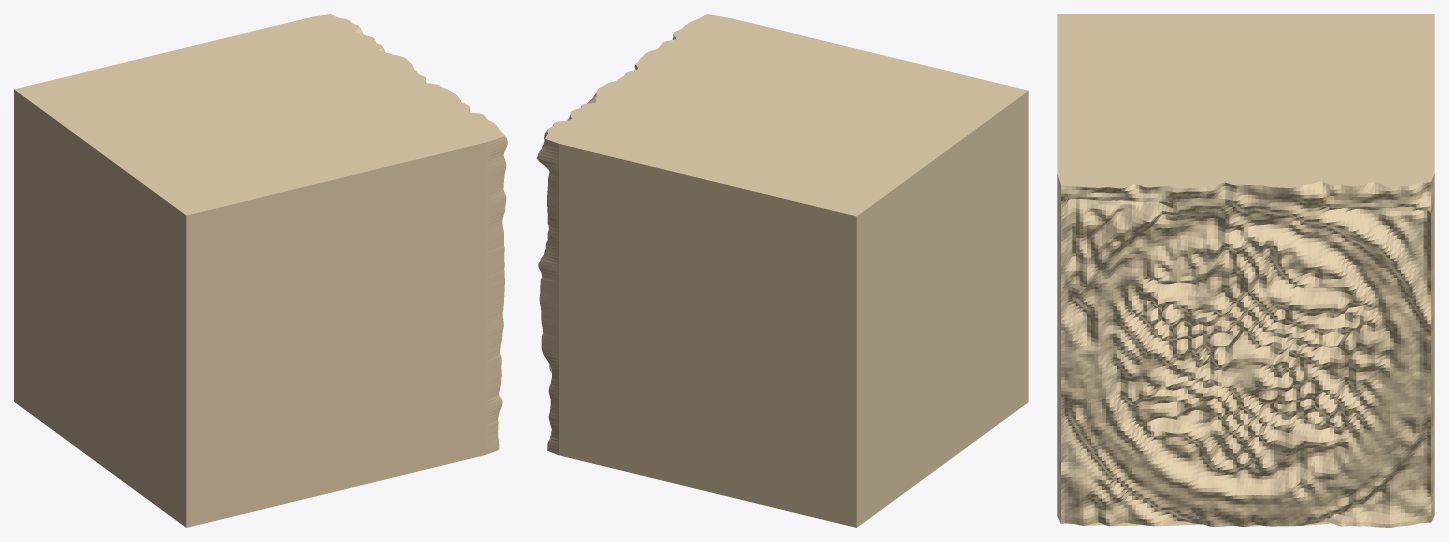
File: bottom8.png - copia.obj
3 renders of one model, left to right at view 1: azimuth 30°, elevation 25°; view 2: azimuth 150°, elevation 25°; view 3: azimuth 270°, elevation 25°, orthographic. The views are drawn at different scales.
Visible parts, largest first — view 1: Cube; view 2: Cube; view 3: Cube.
Boxes of the visible parts, box(x1,y1,x2,y2) form: Cube: box(14, 14, 507, 527); Cube: box(536, 14, 1028, 527); Cube: box(1057, 14, 1434, 527).
Size of the model in its own units: 1.1 by 1 by 1.
